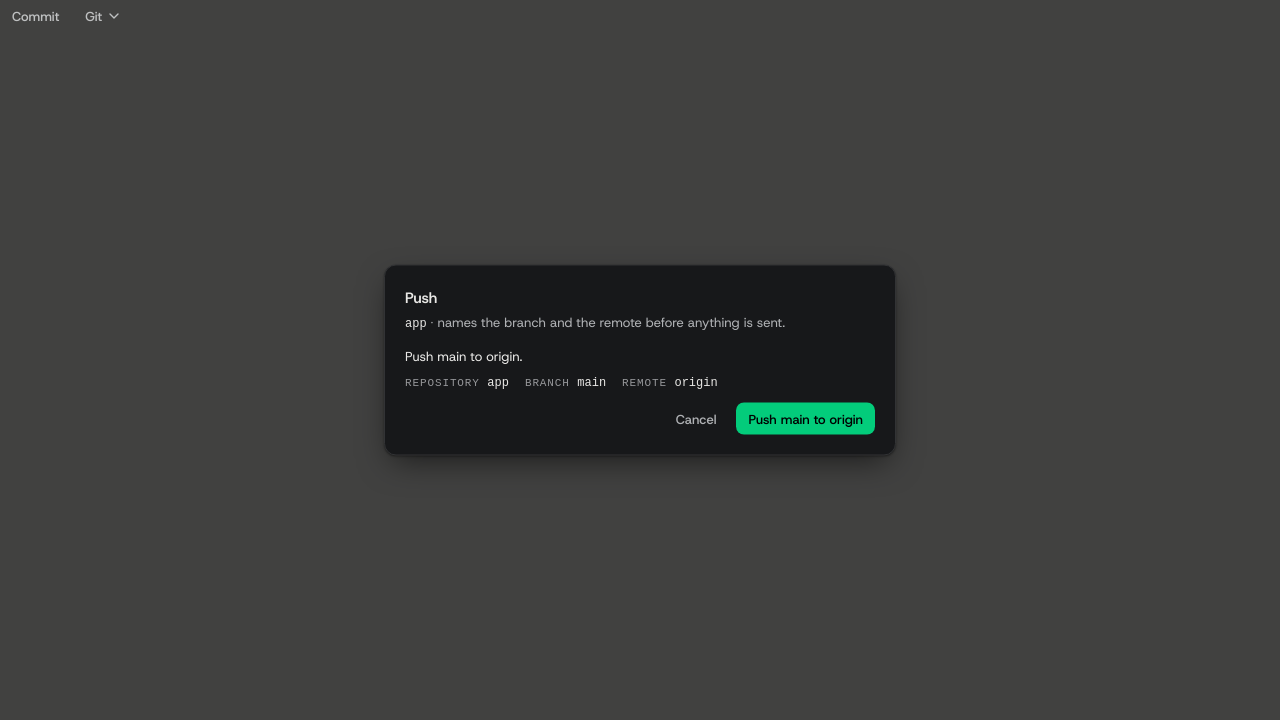
shows an uncertain push and does not retry it
Click the button "Push main to origin": coordinates (806, 418) [736,402,875,434]
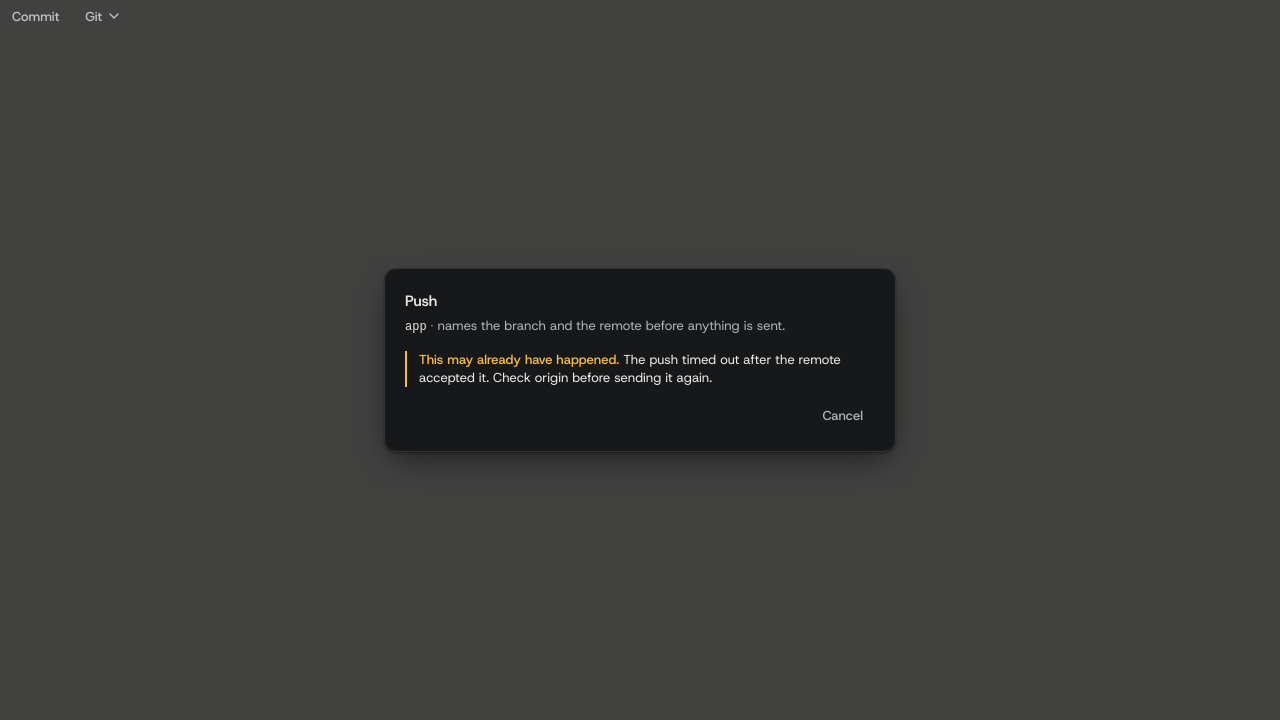
Now the element that starts with "This may already have happened." is shown, box [405,351,875,431]
Now the dialog shows "may already have happened", box [419,351,623,368]
Now the dialog shows "Check origin", box [419,351,841,386]
